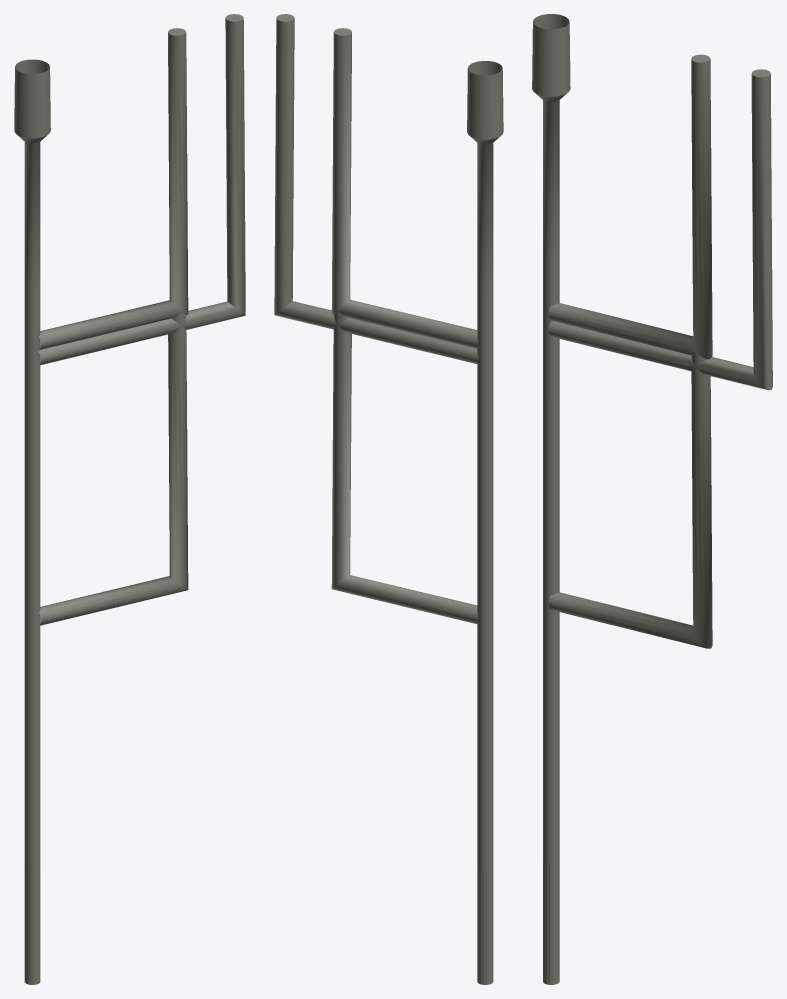
The model's file is pipe_intersection_01.fbx.
3 renders of one model, left to right at view 1: azimuth 30°, elevation 25°; view 2: azimuth 150°, elevation 25°; view 3: azimuth 330°, elevation 25°, orthographic. The views are drawn at different scales.
Parts seen in each view (by area): view 1: pipe_intersection_01; view 2: pipe_intersection_01; view 3: pipe_intersection_01.
Part boxes in pixels (left/top/right/bottom): pipe_intersection_01: left=14, top=14, right=245, bottom=984; pipe_intersection_01: left=274, top=14, right=503, bottom=984; pipe_intersection_01: left=532, top=14, right=772, bottom=984.
Bounding box in the file's own units: 187 × 721 × 26.17.
